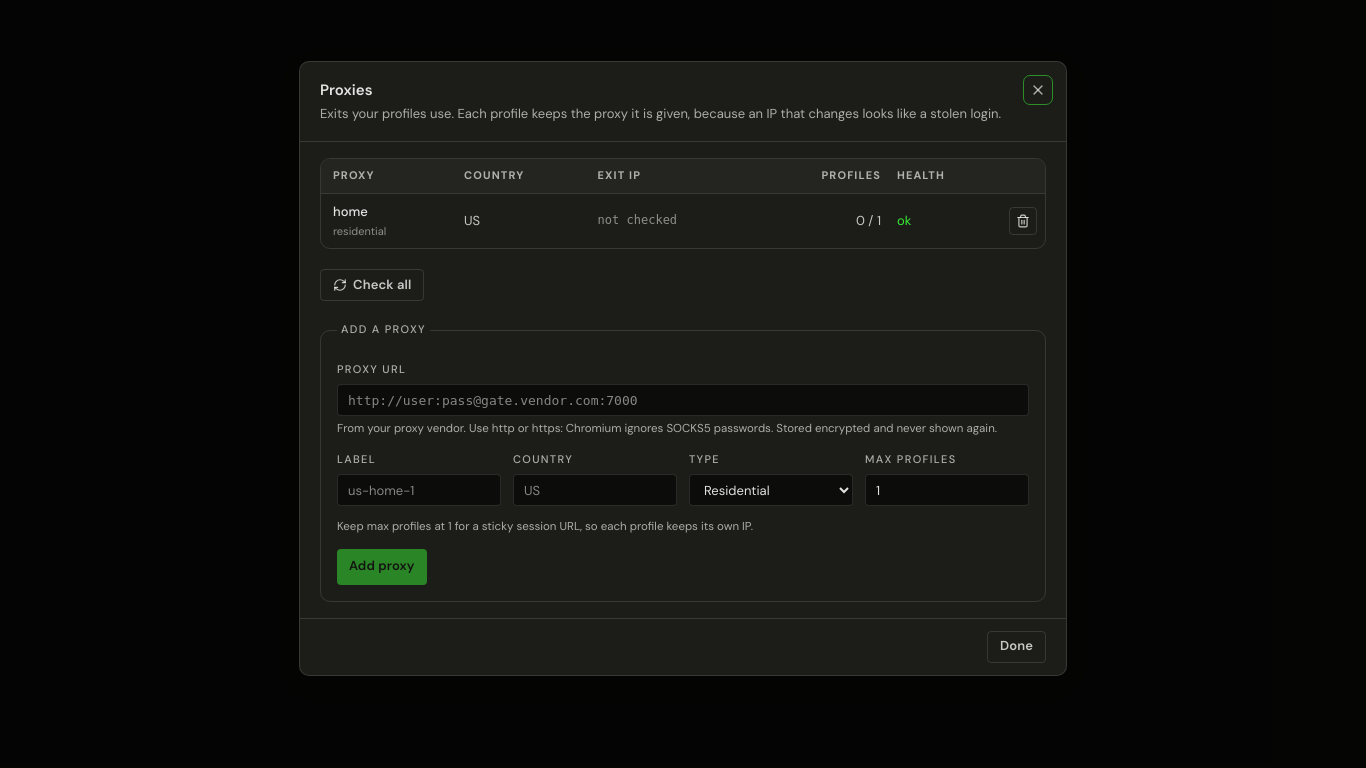
ProxiesDialog › adds a proxy only once a URL is typed, then reloads
This screenshot has width=1366, height=768.
Expected: the button "Add proxy" is disabled, [337,549,427,585]
Type "http://u:p@h:1" into the field labelled "Proxy URL" at (683, 400), box [337,384,1029,416]
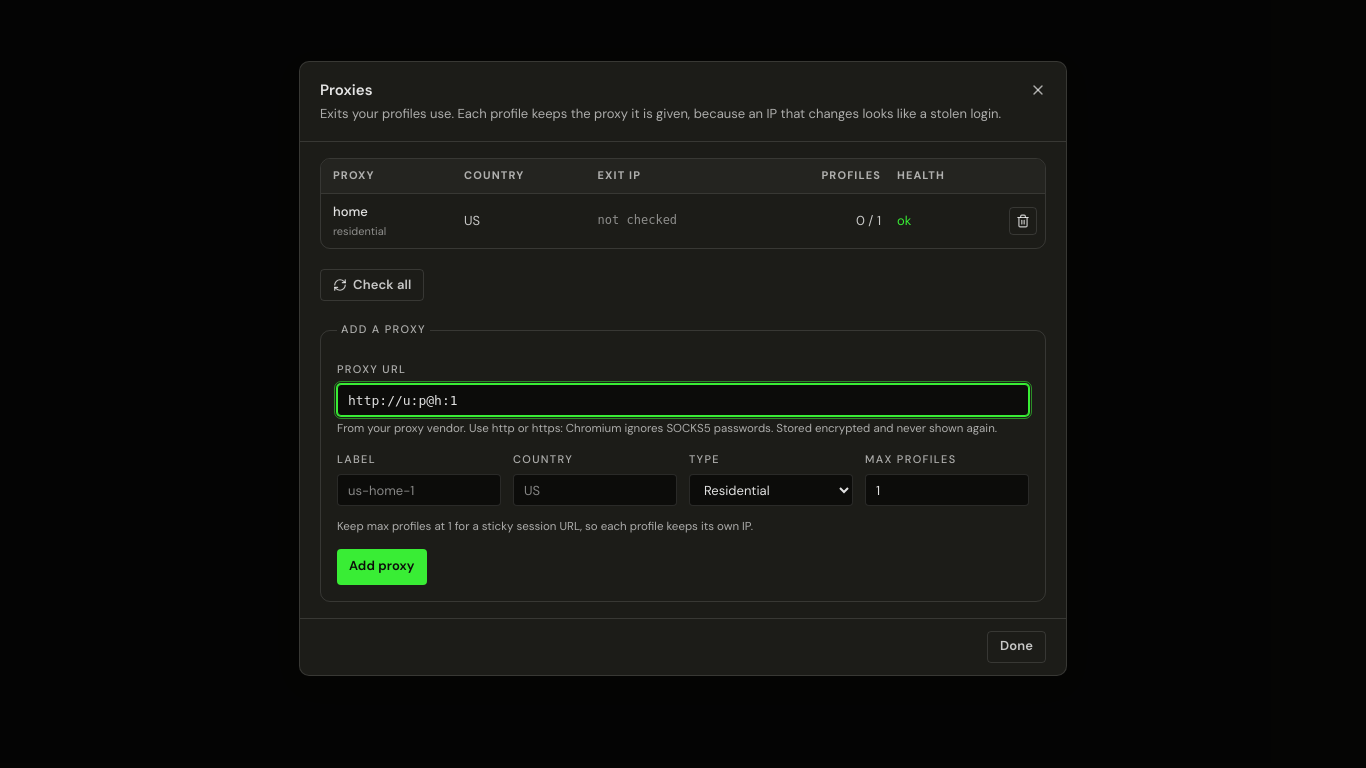
Type "de" into the field labelled "Country" at (595, 490), box [513,474,677,506]
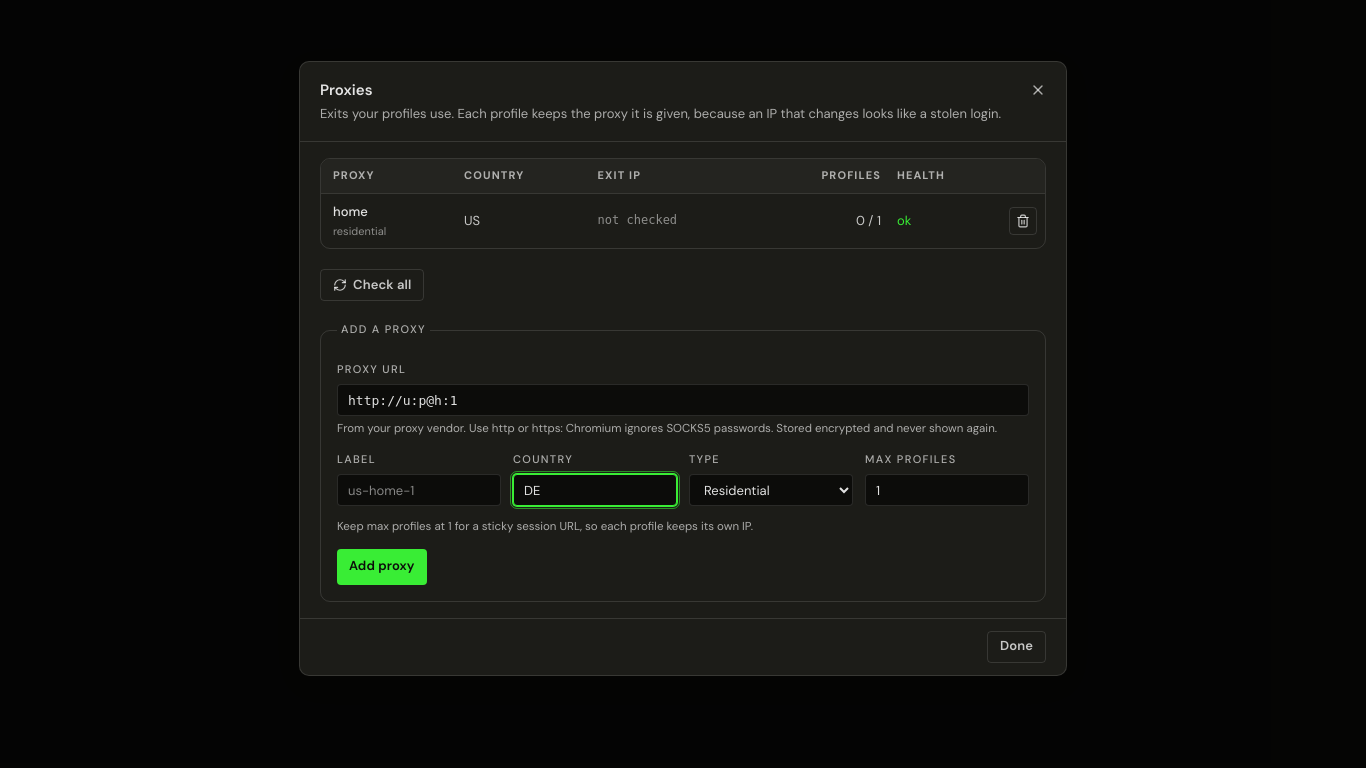
Click the button "Add proxy" at (382, 567), box [337,549,427,585]
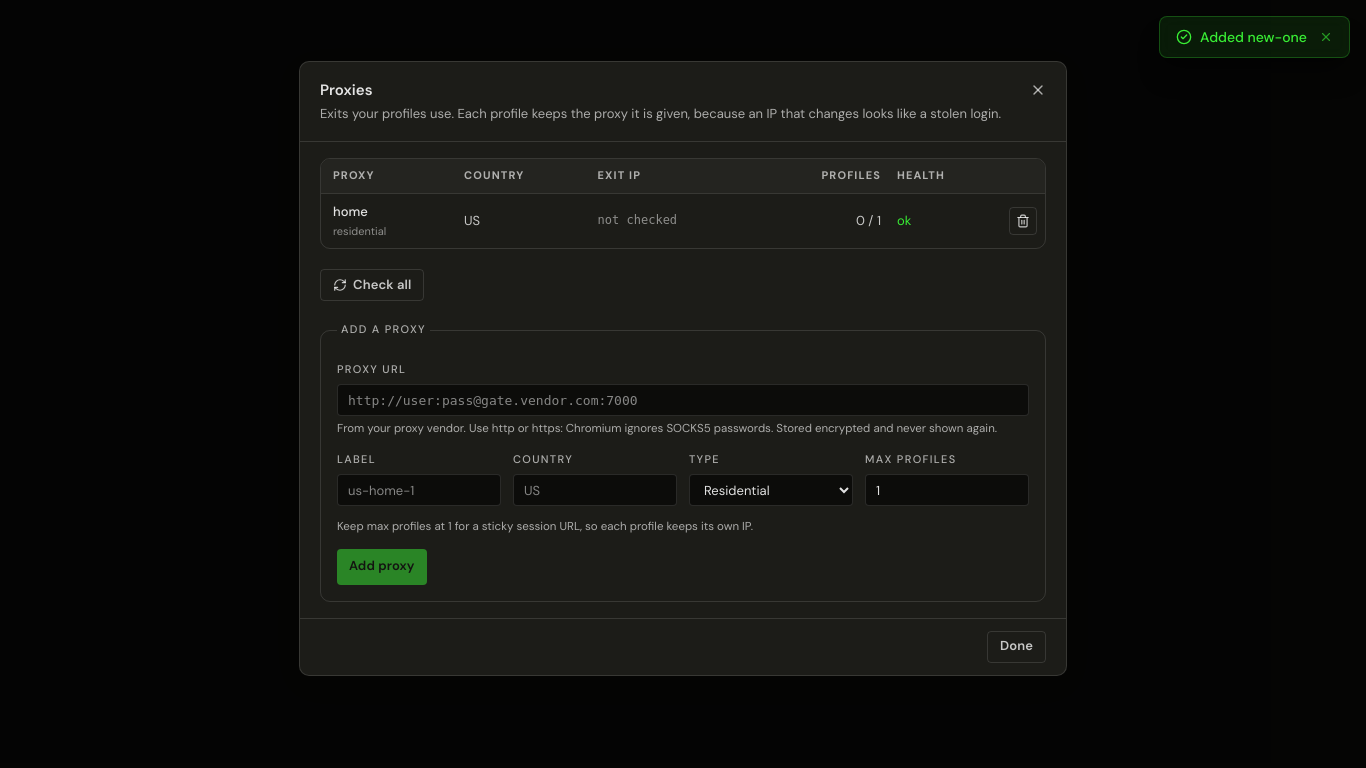
Result: the text "Added new-one" is shown at [1200,27,1307,47]
Result: the field labelled "Proxy URL" is empty at [337,384,1029,416]
